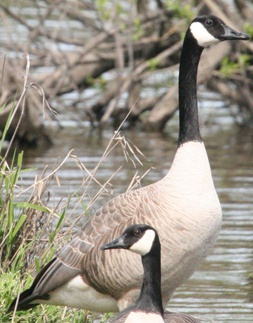goose: (17, 11, 243, 312)
